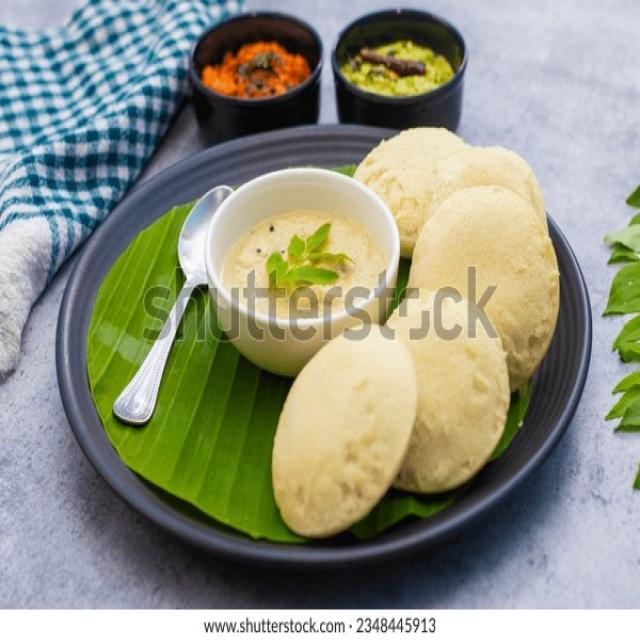IDLI: (272, 128, 558, 536), (389, 187, 558, 491), (273, 326, 417, 536), (395, 332, 509, 491)
